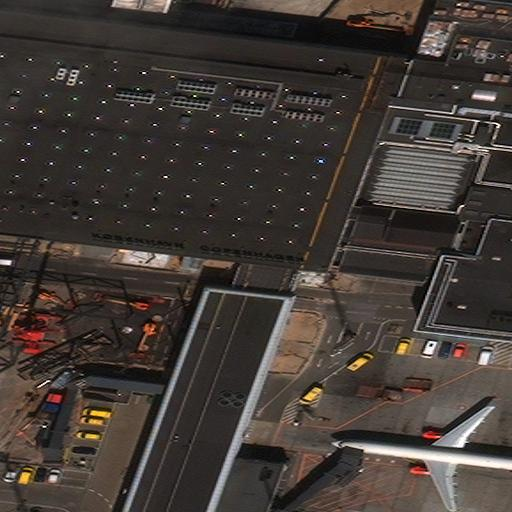Medium Civil Transport: (332, 402, 512, 511)
